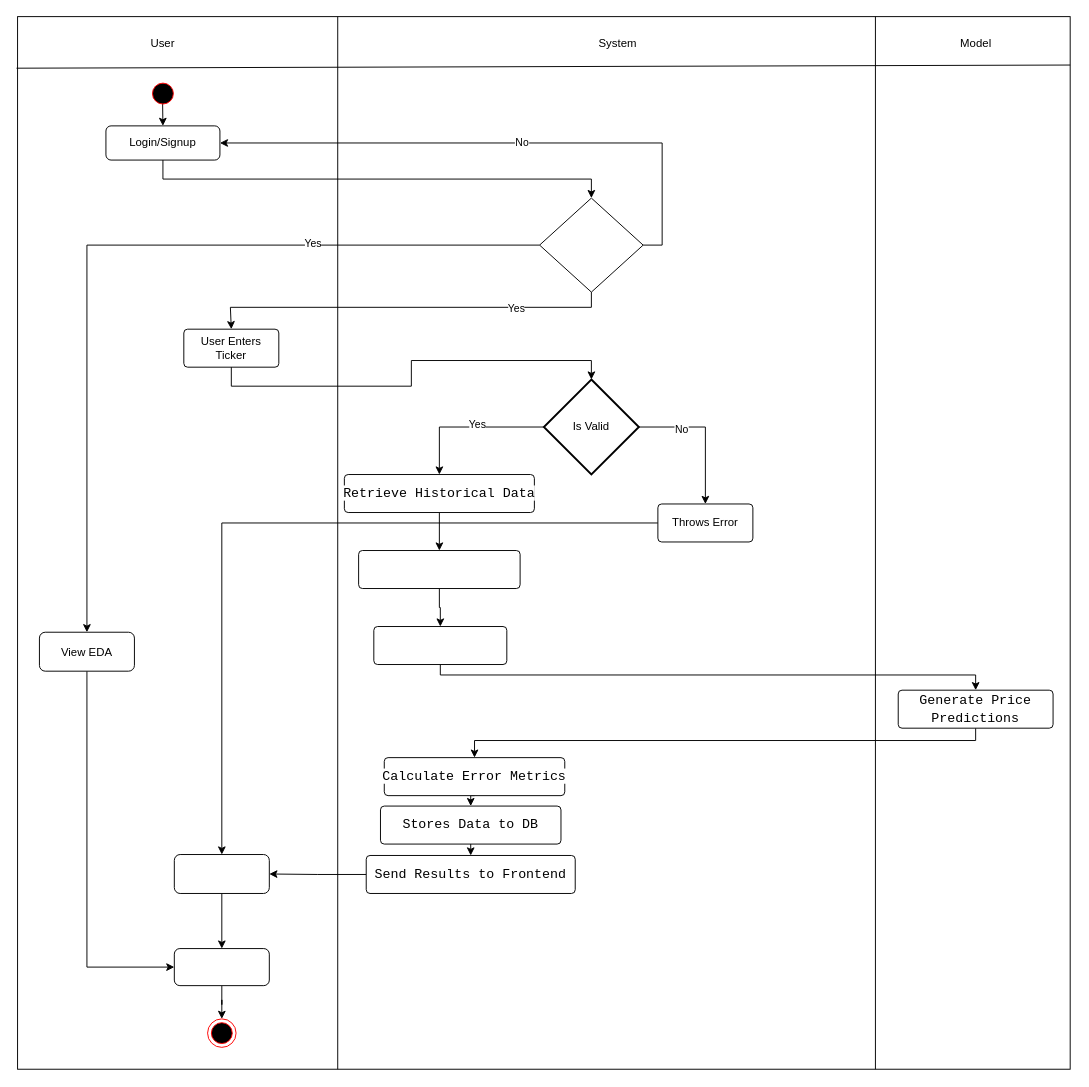
Image size: 1089x1087. Some labels were removed from this diagram. Each missing label, with the centre of its shape:
Is Authenticated: pixel 591 244
Load LSTM Model: pixel 440 645
Preprocess Data: pixel 439 569
SignOut: pixel 221 967
View Results: pixel 221 873
